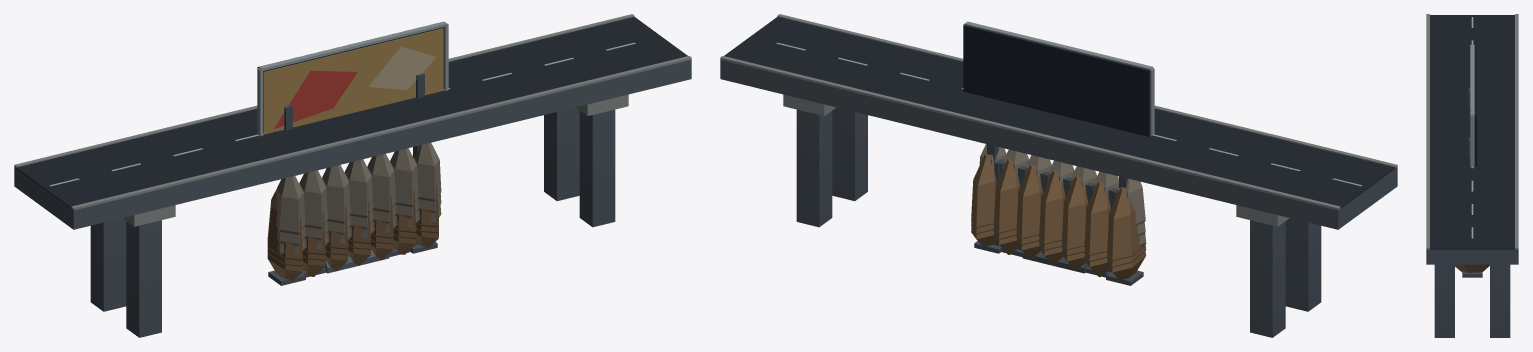
Rendered from ap_borde.glb.
The picture shows the model from 3 angles, left to right: view 1: azimuth 30°, elevation 25°; view 2: azimuth 150°, elevation 25°; view 3: azimuth 270°, elevation 25°; orthographic projection. The views are drawn at different scales.
Visible parts, largest first — view 1: paso_elevado__malla, valla_publicitaria__malla, talud_roca_3__malla, talud_roca_1__malla, talud_roca_2__malla; view 2: paso_elevado__malla, valla_publicitaria__malla, talud_roca_3__malla, talud_roca_1__malla, talud_roca_2__malla, muro_antirruido__malla; view 3: paso_elevado__malla, valla_publicitaria__malla, talud_roca_1__malla.
Part boxes in pixels (x1=…): paso_elevado__malla: x1=14, y1=14, x2=691, y2=337; valla_publicitaria__malla: x1=257, y1=21, x2=448, y2=285; talud_roca_3__malla: x1=267, y1=143, x2=441, y2=260; talud_roca_1__malla: x1=267, y1=205, x2=441, y2=281; talud_roca_2__malla: x1=267, y1=194, x2=441, y2=266; paso_elevado__malla: x1=720, y1=14, x2=1397, y2=337; valla_publicitaria__malla: x1=963, y1=21, x2=1154, y2=285; talud_roca_3__malla: x1=971, y1=144, x2=1146, y2=261; talud_roca_1__malla: x1=971, y1=227, x2=1146, y2=281; talud_roca_2__malla: x1=971, y1=221, x2=1146, y2=267; muro_antirruido__malla: x1=994, y1=159, x2=1117, y2=277; paso_elevado__malla: x1=1426, y1=14, x2=1518, y2=337; valla_publicitaria__malla: x1=1462, y1=44, x2=1482, y2=277; talud_roca_1__malla: x1=1455, y1=264, x2=1489, y2=272.
Bounding box in the file's own units: 30 × 10.06 × 5.
Materials: 12 (12 with a texture image).
